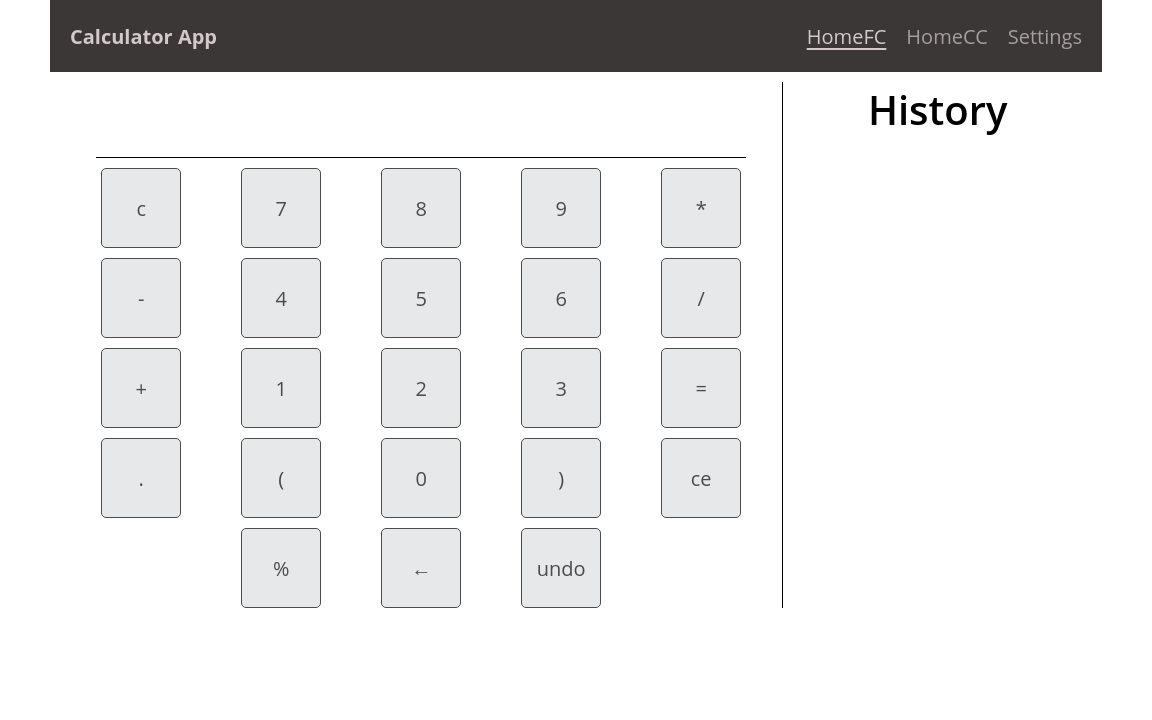
Test: test calcurator app › testing FC multiply command
The image size is (1152, 720).
Expected: the element with test id "keypadFC" is shown, x1=60 y1=158 x2=782 y2=608
Click the text "1" at (281, 388), box x1=241 y1=348 x2=321 y2=428
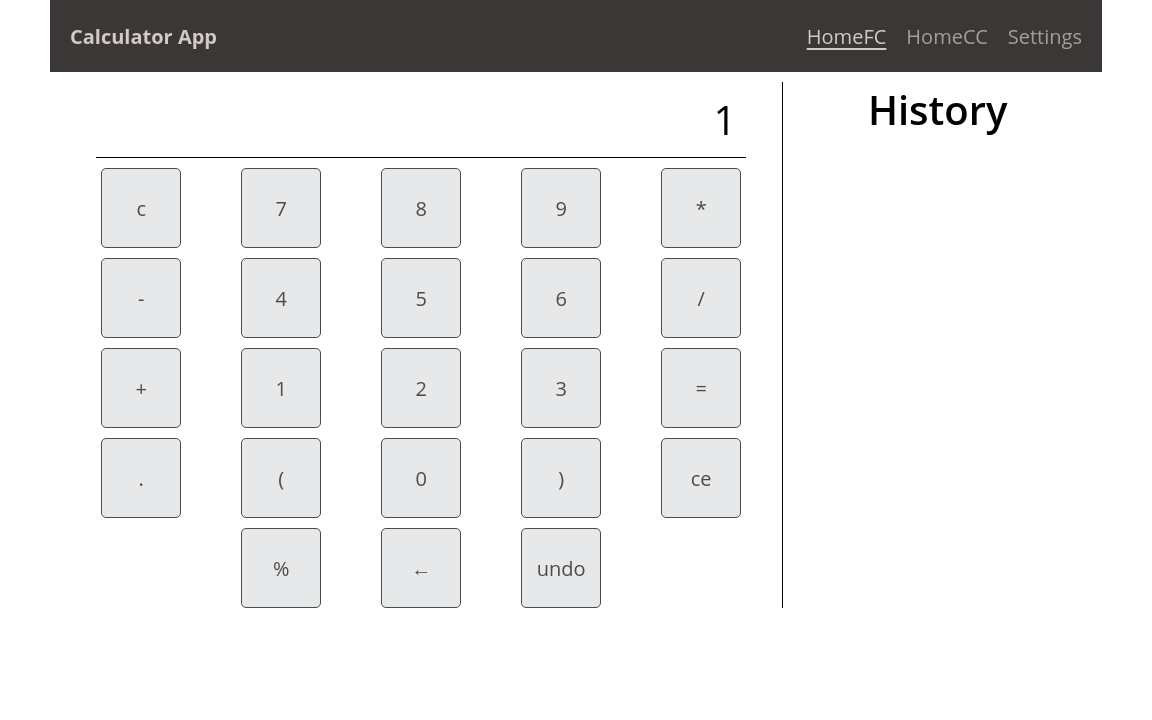
Expected: the element with test id "keypadFC" is shown, x1=60 y1=158 x2=782 y2=608
Click the text "*" at (701, 208), box x1=661 y1=168 x2=741 y2=248
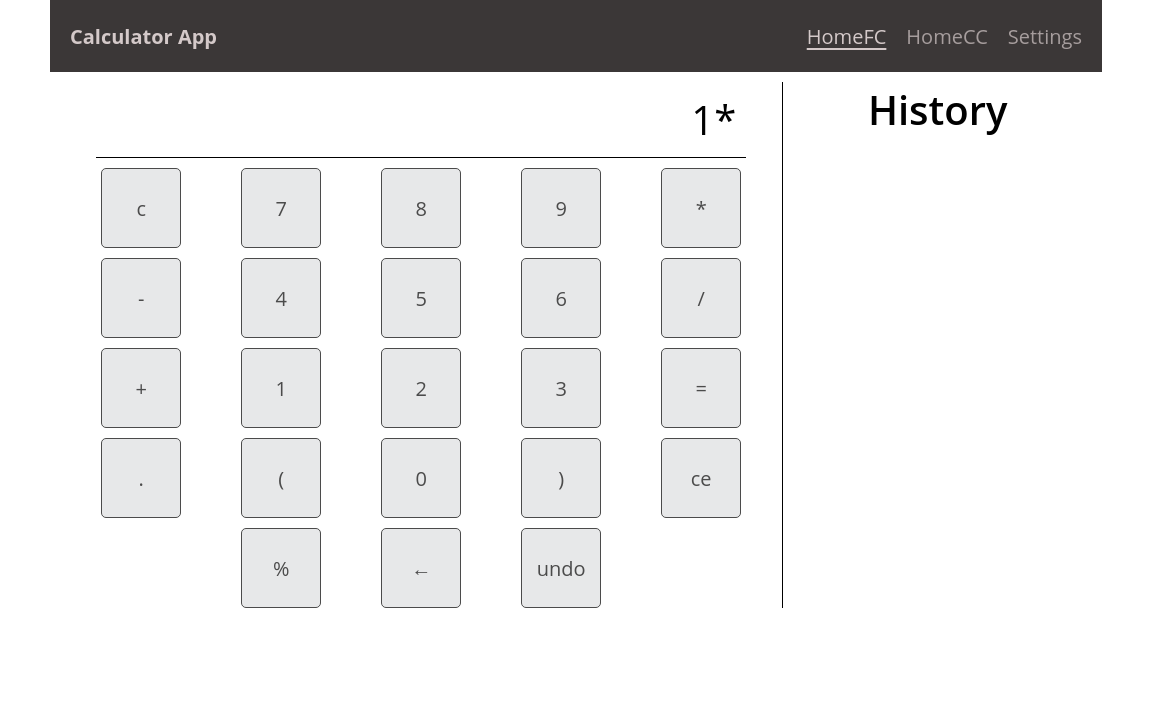
Expected: the element with test id "keypadFC" is shown, x1=60 y1=158 x2=782 y2=608
Click the text "4" at (281, 298), box x1=241 y1=258 x2=321 y2=338
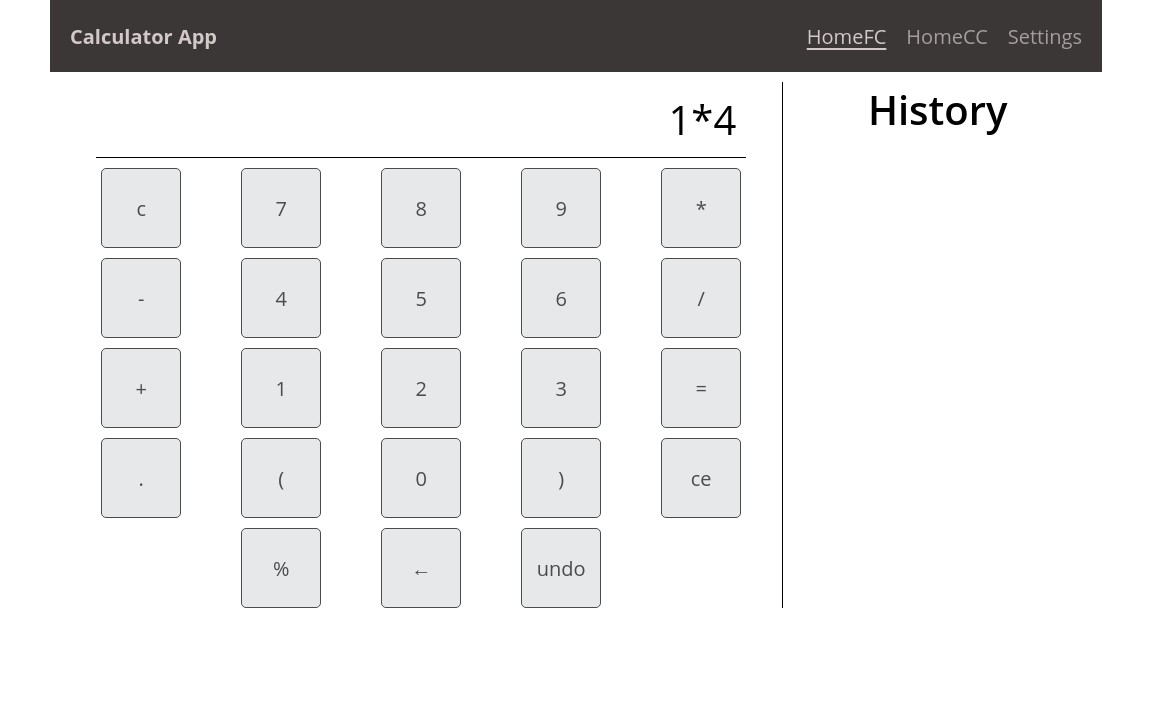
Expected: the element with test id "keypadFC" is shown, x1=60 y1=158 x2=782 y2=608
Click the text "=" at (701, 388), box x1=661 y1=348 x2=741 y2=428
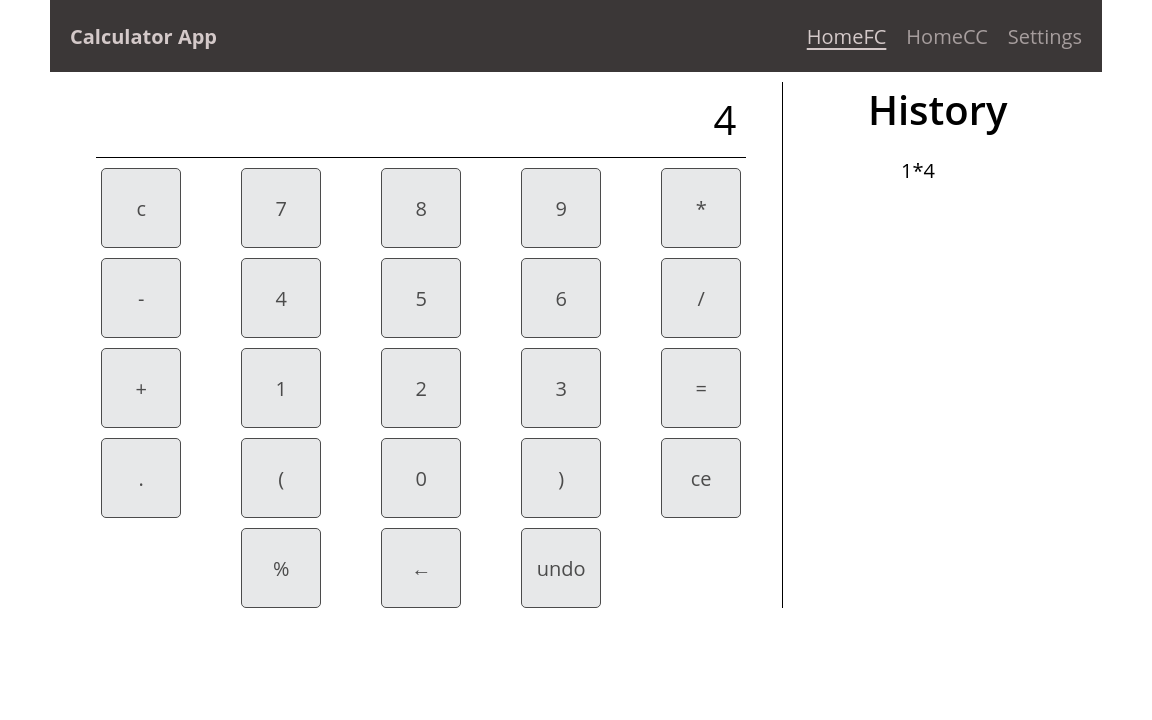
Expected: the element with test id "historyFC" is shown, x1=868 y1=82 x2=1008 y2=184
Now the field with test id "displayFC" holds "4", box x1=96 y1=82 x2=746 y2=157
Now the text "1*4" is shown, box x1=901 y1=157 x2=935 y2=184
